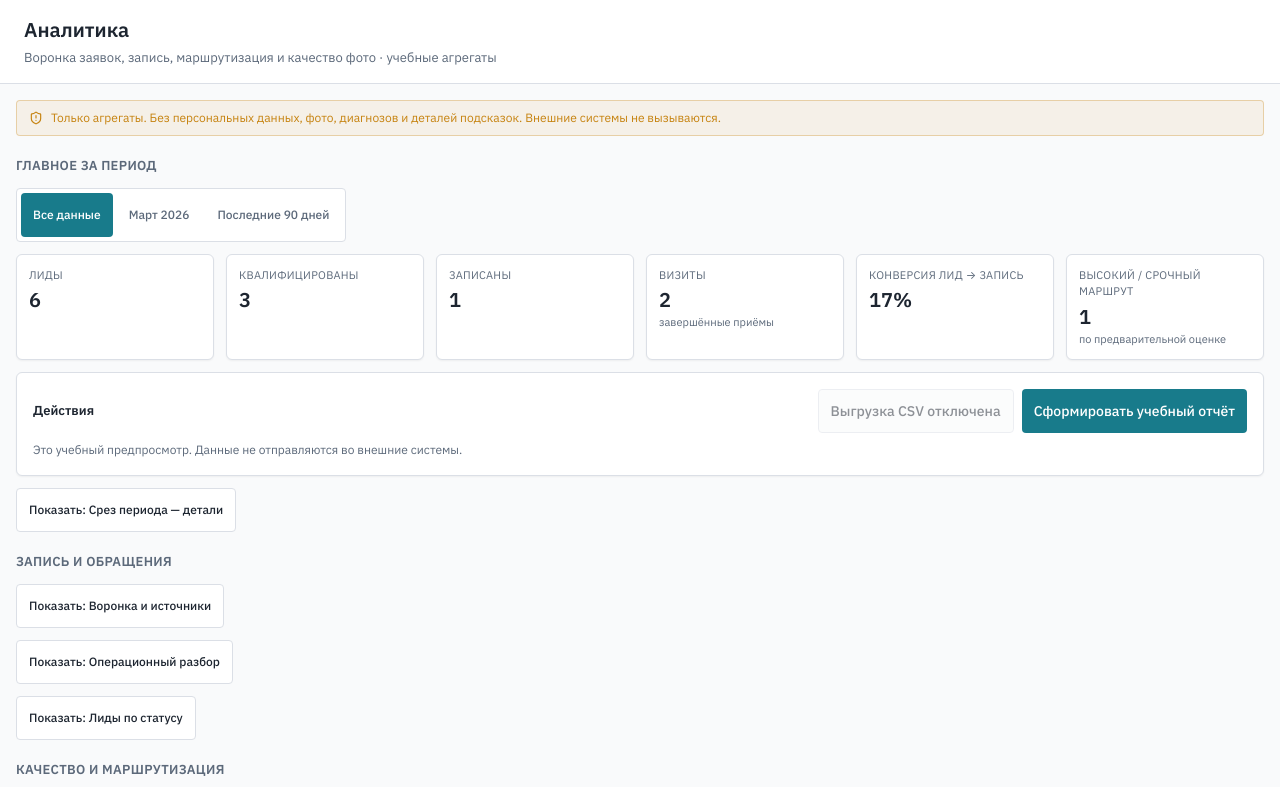
it: AdminAnalyticsPage — учебные действия › «Сформировать учебный отчёт» показывает безопасную русскую сводку только с агрегатами
The width and height of the screenshot is (1280, 787).
Click the button "Сформировать учебный отчёт" at point(1134, 411), box [1022,389,1247,433]
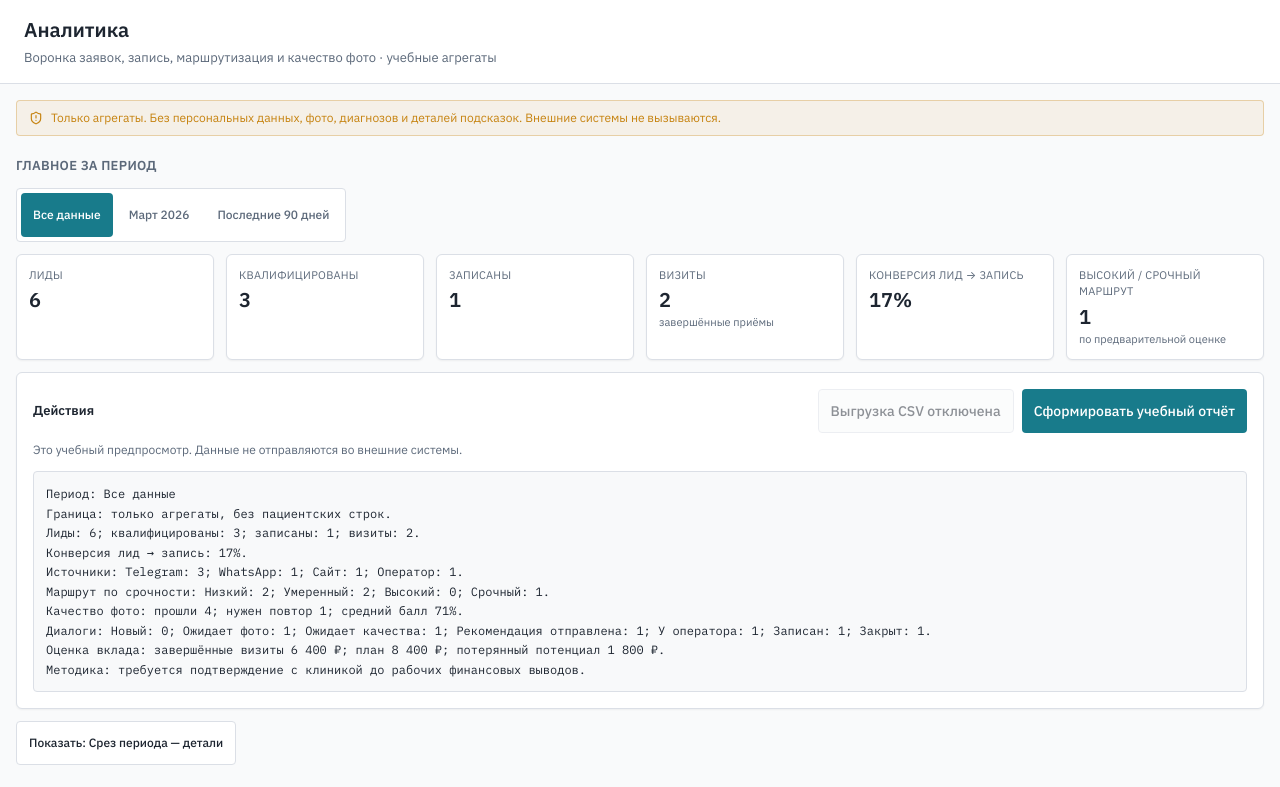
Check: the text named "Безопасный агрегатный предпросмотр отчёта" shows "Период:", box [46,486,932,676]
Check: the text named "Безопасный агрегатный предпросмотр отчёта" shows "Граница: только агрегаты, без пациентских строк", box [46,486,932,676]
Check: the text named "Безопасный агрегатный предпросмотр отчёта" shows "Лиды:", box [46,486,932,676]
